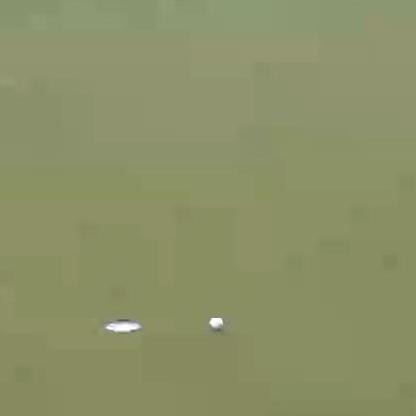golfball: (208, 317, 223, 329)
